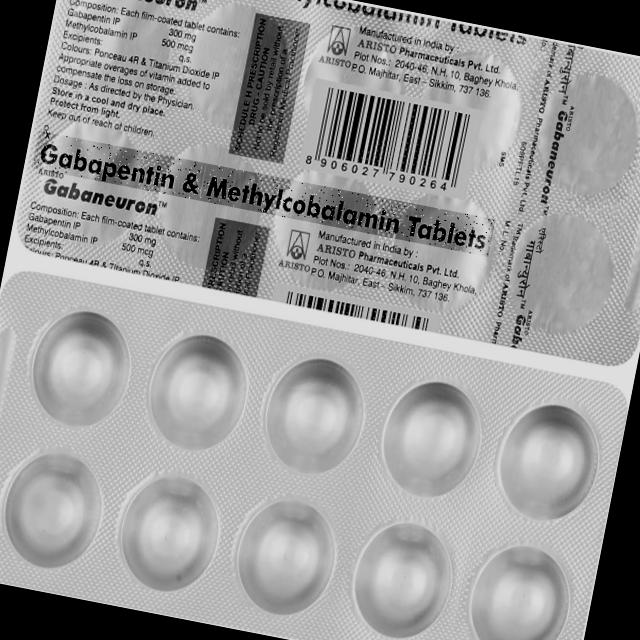Medicine-name: (33, 132, 497, 258)
